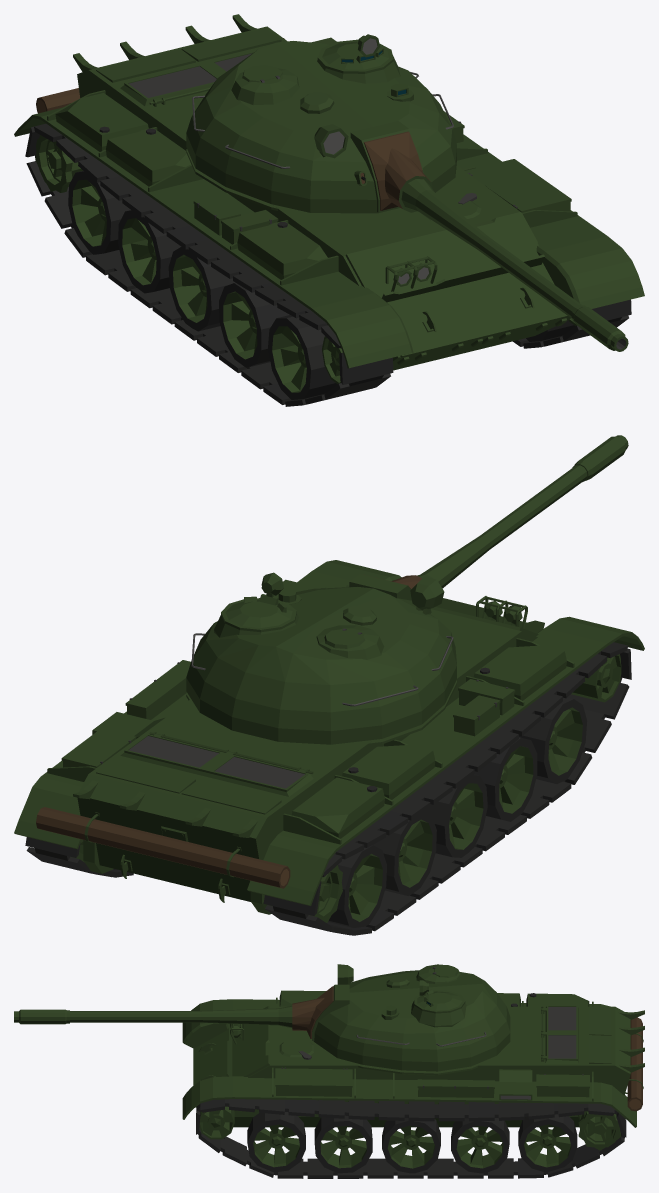
3 renders of one model, top to bottom at view 1: azimuth 30°, elevation 25°; view 2: azimuth 150°, elevation 25°; view 3: azimuth 270°, elevation 25°, orthographic. The views are drawn at different scales.
Parts seen in each view (by area): view 1: Hull, Turret, TrackR, Gun, WheelR2, WheelR3, WheelR4, WheelR5, WheelR6, SproketR, TrackL, WheelR1; view 2: Hull, Turret, TrackR, Gun, WheelR2, WheelR3, WheelR5, WheelR4, WheelR6, TrackL, WheelR1, SproketR; view 3: Hull, Turret, TrackL, Gun, WheelL2, WheelL3, WheelL6, WheelL4, WheelL5, SproketL, WheelL1.
Boxes of the visible parts, x1,y1,x2,y2 form: Hull: (14, 14, 644, 370); Turret: (186, 34, 456, 213); TrackR: (25, 123, 393, 406); Gun: (385, 148, 628, 351); WheelR2: (268, 315, 337, 399); WheelR3: (219, 282, 289, 367); WheelR4: (168, 247, 234, 331); WheelR5: (118, 210, 181, 293); WheelR6: (68, 170, 130, 254); SproketR: (35, 135, 82, 192); TrackL: (513, 299, 631, 348); WheelR1: (322, 336, 342, 383); Hull: (14, 560, 644, 914); Turret: (186, 572, 456, 744); TrackR: (263, 642, 631, 935); Gun: (392, 435, 628, 588); WheelR2: (519, 697, 587, 783); WheelR3: (474, 737, 537, 821); WheelR5: (372, 812, 436, 895); WheelR4: (424, 774, 487, 857); WheelR6: (328, 845, 386, 927); TrackL: (25, 837, 133, 877); WheelR1: (571, 654, 621, 702); SproketR: (309, 865, 342, 922); Hull: (182, 990, 644, 1127); Turret: (306, 964, 510, 1071); TrackL: (196, 1099, 626, 1178); Gun: (14, 997, 324, 1030); WheelL2: (247, 1112, 305, 1172); WheelL3: (314, 1115, 372, 1173); WheelL6: (518, 1114, 577, 1172); WheelL4: (382, 1118, 440, 1173); WheelL5: (451, 1118, 509, 1173); SproketL: (578, 1111, 621, 1150); WheelL1: (199, 1106, 234, 1139).
Size of what is drawn, in the model's own units: 312 by 248 by 849.
